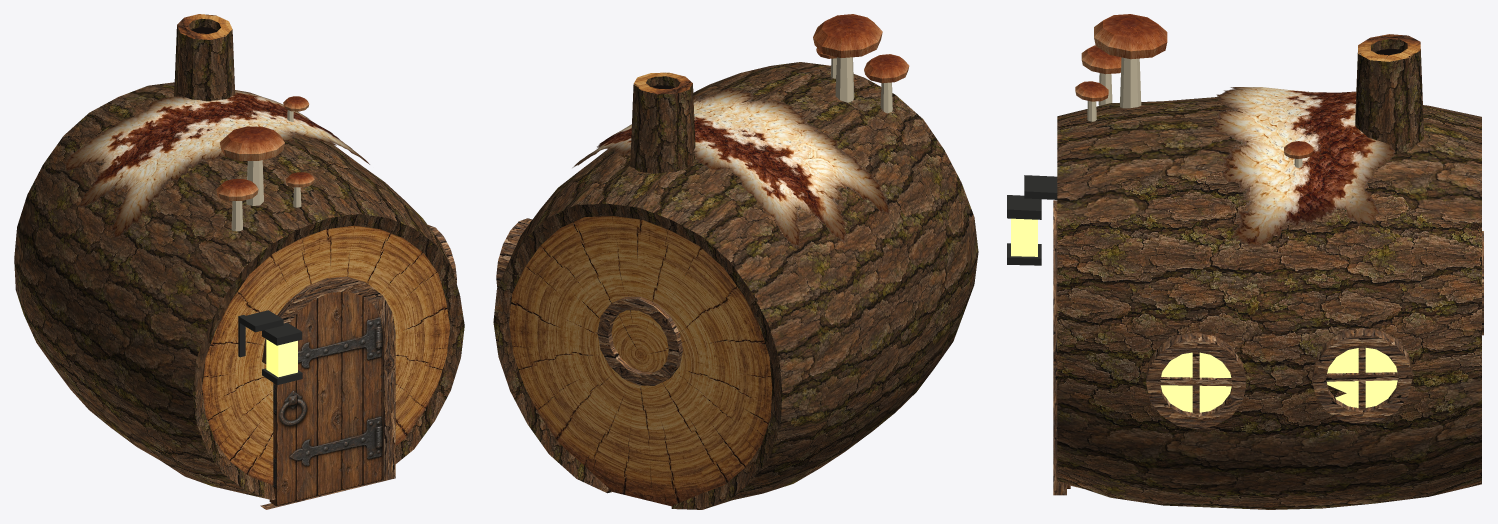
The model's file is house-forest-01.glb.
3 views of the same model, side by side, from view 1: azimuth 30°, elevation 25°; view 2: azimuth 150°, elevation 25°; view 3: azimuth 270°, elevation 25° (orthographic). The views are drawn at different scales.
Visible parts, largest first — view 1: log, end_f, door, hide, rim_f, door_frame, chimney, mush0_cap, lantern_glass, lantern_cage, lantern_bracket, chimney_top (+2 smaller); view 2: log, end_b, hide, rim_b, chimney, win_back_frame, mush0_cap, mush1_cap, mush0_stem, win_frame_1, chimney_top; view 3: log, hide, chimney, win_frame_1, win_frame_0, mush0_cap, win_0, win_1, door_frame, lantern_cage, win_cross_1, win_cross_0 (+6 smaller).
Part boxes in pixels (x1,y1,x2,y2): log: [14, 82, 450, 499]; end_f: [202, 225, 450, 484]; door: [269, 291, 382, 506]; hide: [64, 90, 369, 238]; rim_f: [192, 214, 464, 499]; door_frame: [260, 276, 395, 509]; chimney: [174, 18, 235, 104]; mush0_cap: [219, 126, 284, 160]; lantern_glass: [266, 339, 297, 377]; lantern_cage: [262, 322, 302, 384]; lantern_bracket: [238, 310, 283, 357]; chimney_top: [177, 14, 232, 39]; log: [500, 62, 978, 508]; end_b: [509, 216, 772, 506]; hide: [572, 88, 889, 246]; rim_b: [493, 203, 782, 509]; chimney: [630, 76, 695, 173]; win_back_frame: [597, 296, 682, 385]; mush0_cap: [813, 14, 882, 57]; mush1_cap: [864, 54, 909, 83]; mush0_stem: [835, 57, 854, 102]; win_frame_1: [496, 218, 532, 287]; chimney_top: [633, 72, 692, 94]; log: [1057, 97, 1481, 509]; hide: [1212, 87, 1395, 246]; chimney: [1355, 39, 1423, 153]; win_frame_1: [1312, 328, 1412, 424]; win_frame_0: [1146, 332, 1246, 429]; mush0_cap: [1094, 14, 1167, 59]; win_0: [1161, 352, 1231, 412]; win_1: [1327, 348, 1397, 407]; door_frame: [1053, 200, 1066, 495]; lantern_cage: [1007, 195, 1041, 265]; win_cross_1: [1326, 347, 1398, 410]; win_cross_0: [1160, 352, 1232, 415].
Size of the model in its own units: 2.29 by 2.41 by 2.47.
10 materials, 6 textured.
